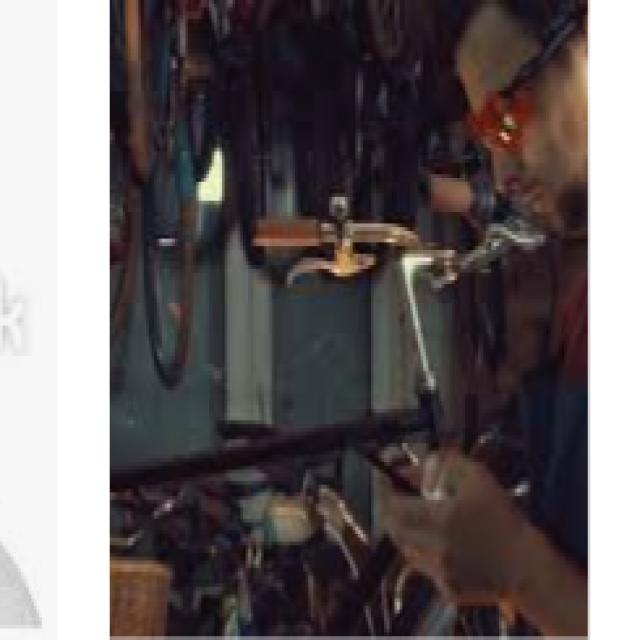glasses: (457, 58, 570, 158)
